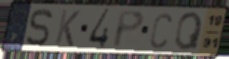4: (87, 7, 112, 51)
C: (149, 11, 174, 50)
K: (53, 8, 82, 48)
P: (112, 10, 146, 51)
Q: (174, 11, 204, 52)
S: (24, 7, 54, 48)
